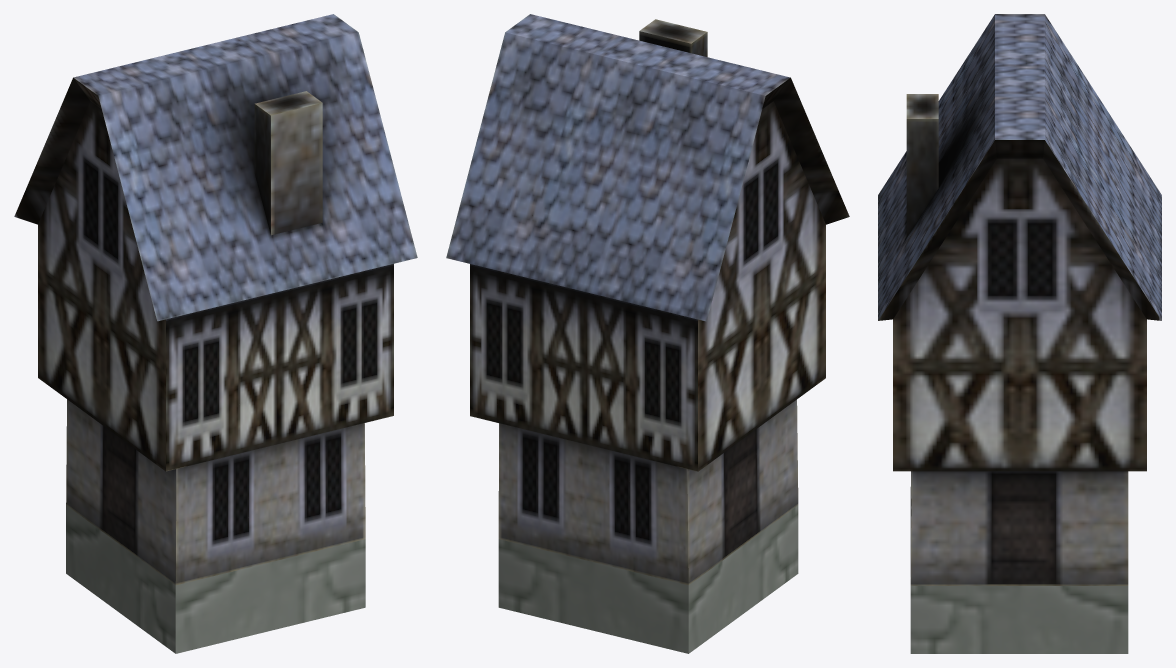
File: med_tile_boundary_hse1.obj
3 views of the same model, side by side, from view 1: azimuth 30°, elevation 25°; view 2: azimuth 150°, elevation 25°; view 3: azimuth 270°, elevation 25° (orthographic).
Parts seen in each view (by area): view 1: tile_boundary_hse1; view 2: tile_boundary_hse1; view 3: tile_boundary_hse1.
Part boxes in pixels (x1,y1,x2,y2): tile_boundary_hse1: (14,14,417,653); tile_boundary_hse1: (446,14,849,653); tile_boundary_hse1: (878,14,1161,653).
Size of the model in its own units: 1.37 by 2.69 by 1.3.
1 material, 1 textured.
